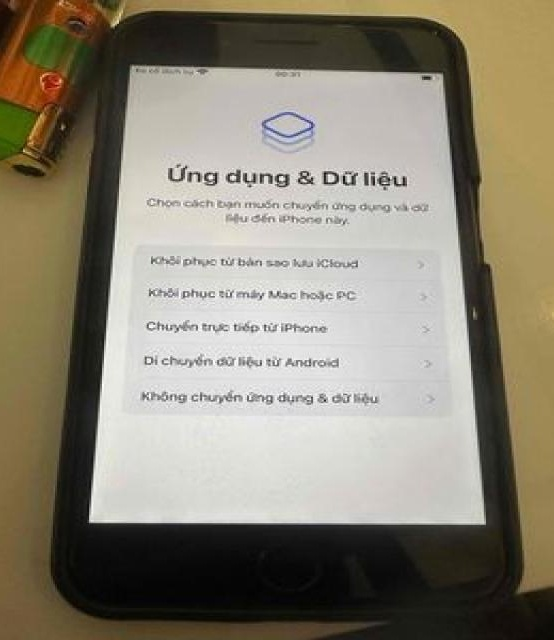scratch: (318, 18, 452, 41)
